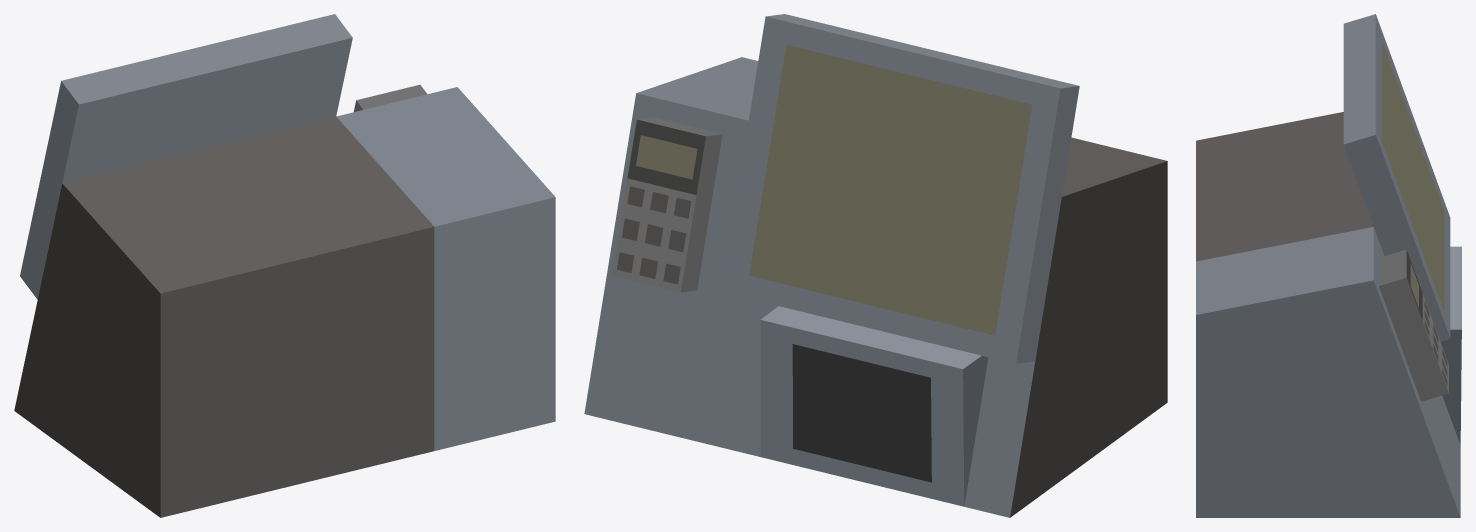
File: EletronicRegister2.glb
3 renders of one model, left to right at view 1: azimuth 30°, elevation 25°; view 2: azimuth 150°, elevation 25°; view 3: azimuth 270°, elevation 25°, orthographic. The views are drawn at different scales.
Visible parts, largest first — view 1: SI_Prop_ElectronicRegister_02; view 2: SI_Prop_ElectronicRegister_02; view 3: SI_Prop_ElectronicRegister_02.
Boxes of the visible parts, box(x1,y1,x2,y2) form: SI_Prop_ElectronicRegister_02: box(14, 14, 555, 517); SI_Prop_ElectronicRegister_02: box(584, 14, 1167, 517); SI_Prop_ElectronicRegister_02: box(1196, 14, 1461, 517).
Bounding box in the file's own units: 0.012 × 0.0106 × 0.00772.
Materials: 1 (1 with a texture image).
